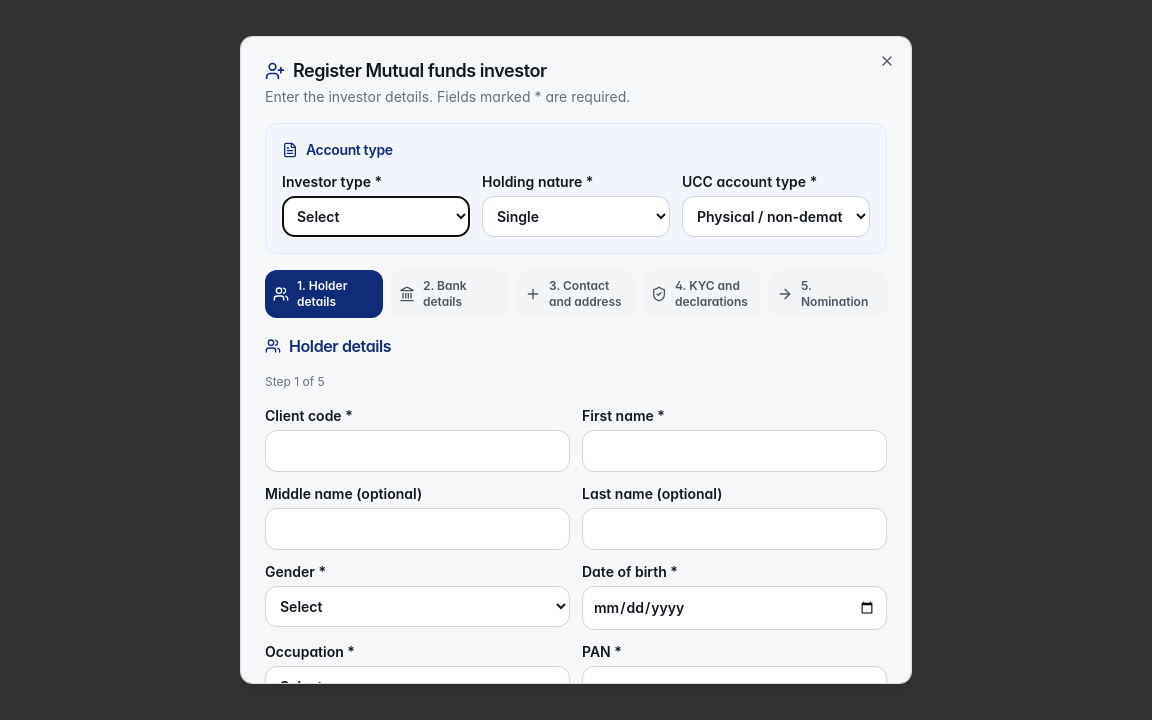
Test: shows foreign details for NRI and entity labels for company accounts
Select "Nri - Repatriable (Nre)" in the dropdown labelled "Investor type": coordinates (376, 216) top-left (282, 196), bottom-right (470, 237)
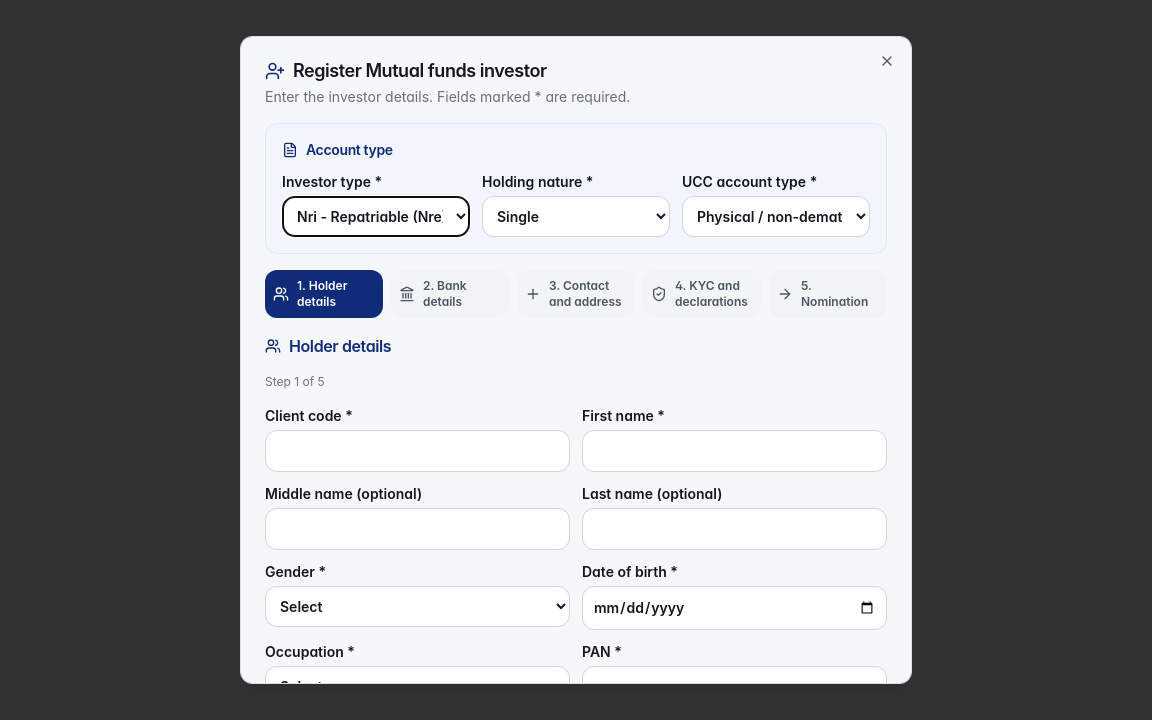
Click the button "2. Bank details": coordinates (450, 294) top-left (391, 270), bottom-right (509, 318)
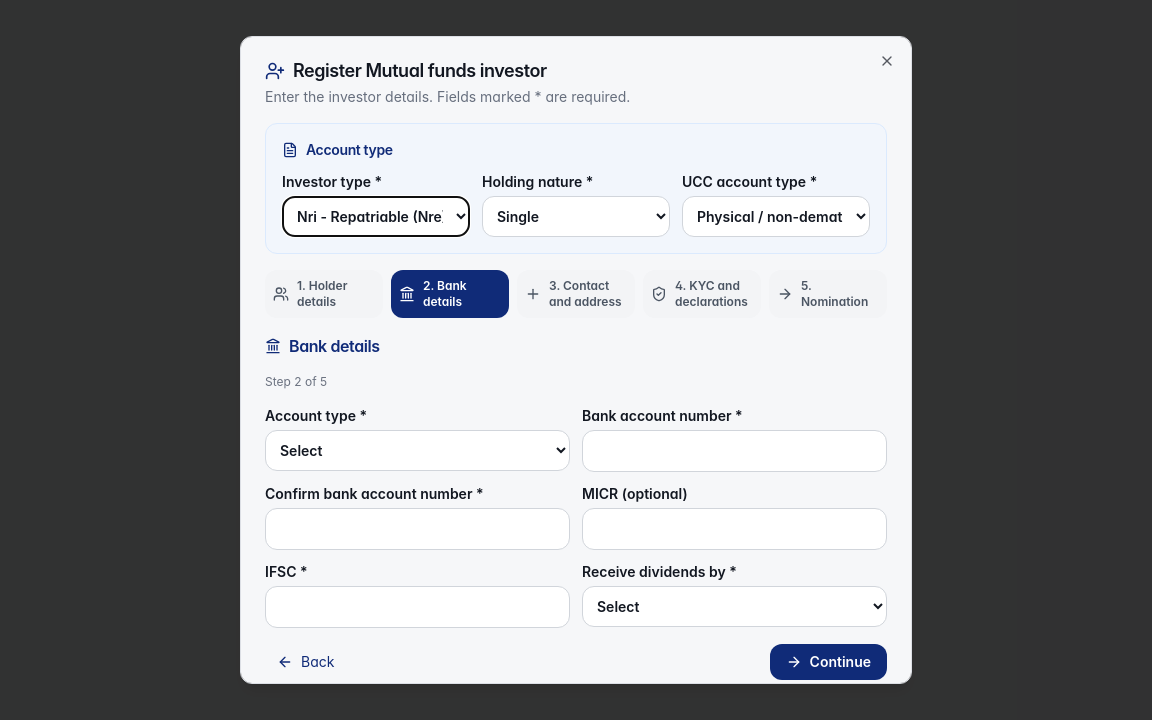
Click the button "3. Contact and address": coordinates (576, 294) top-left (517, 270), bottom-right (635, 318)
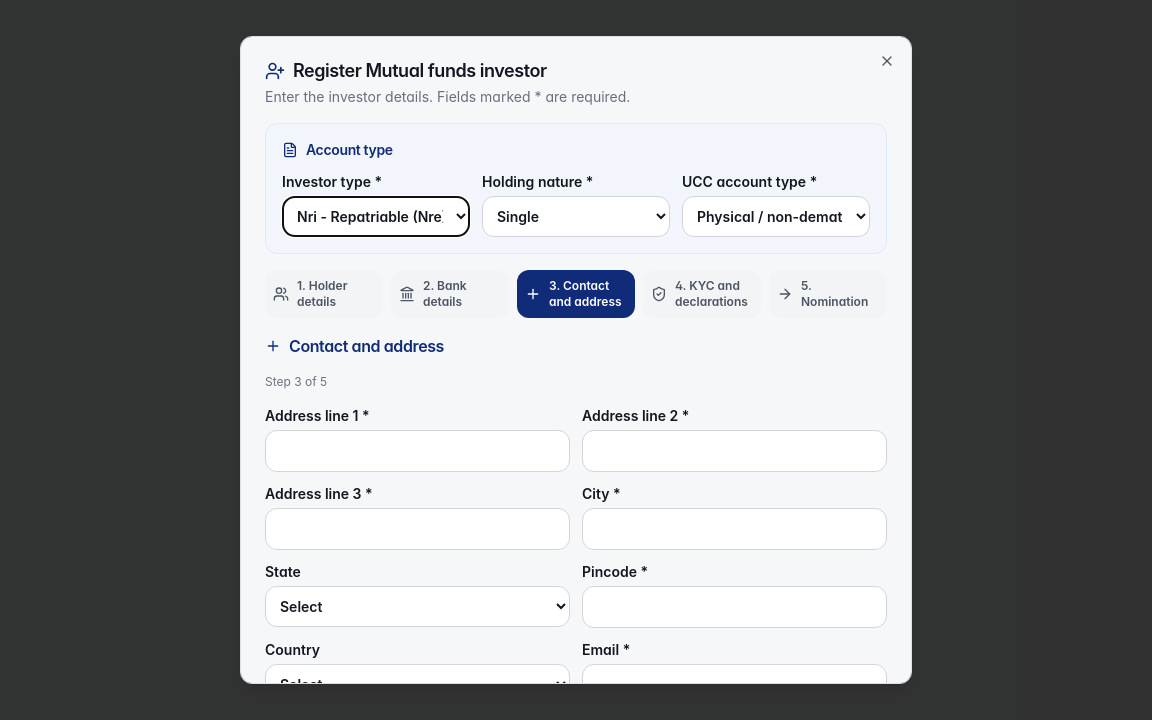
Select "Company" in the dropdown labelled "Investor type": coordinates (376, 216) top-left (282, 196), bottom-right (470, 237)
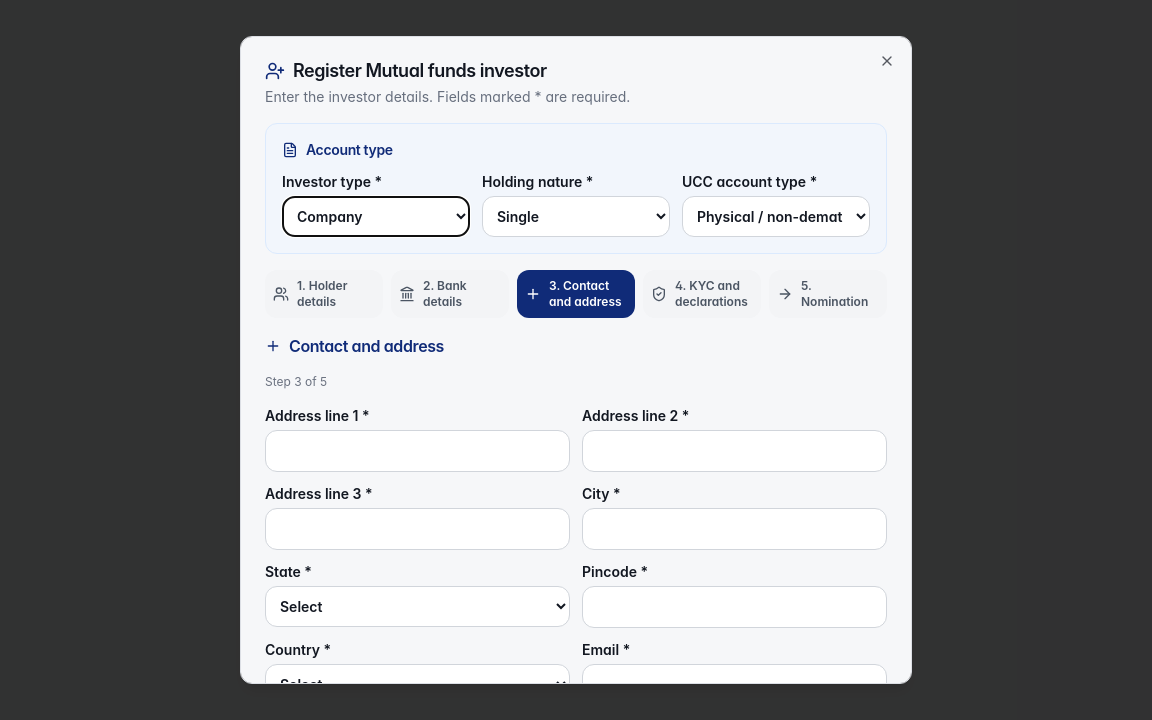
Click the button "1. Holder details": coordinates (324, 294) top-left (265, 270), bottom-right (383, 318)
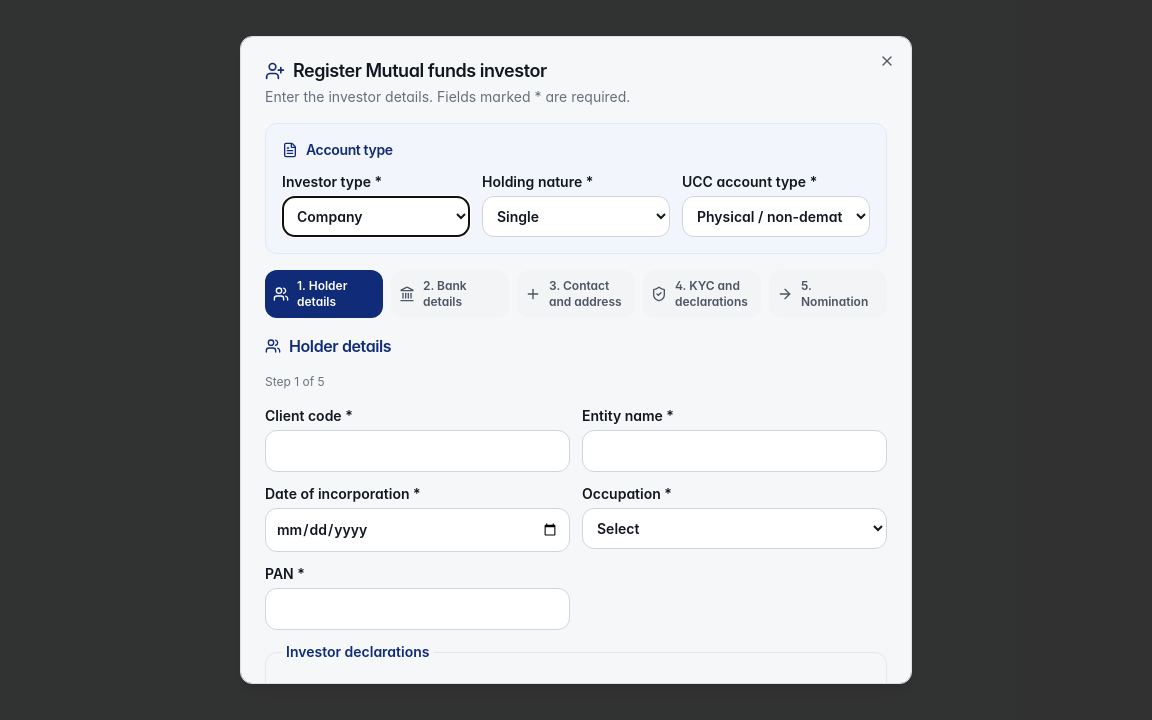
Check: the field labelled "Entity name" is shown, box top-left (582, 430), bottom-right (887, 472)
Check: the date field labelled "Date of incorporation" is shown, box top-left (265, 508), bottom-right (570, 552)
